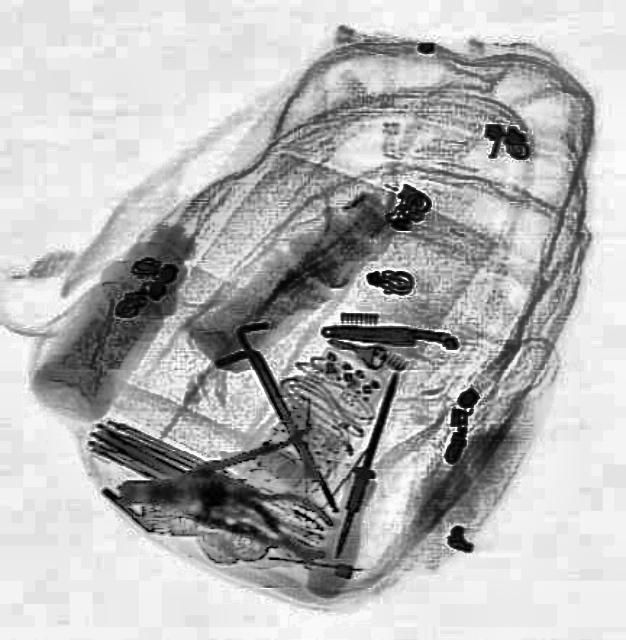Pliers: (218, 468, 344, 564)
